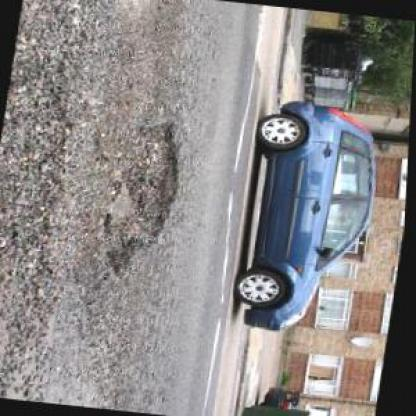pothole: (93, 115, 191, 279)
